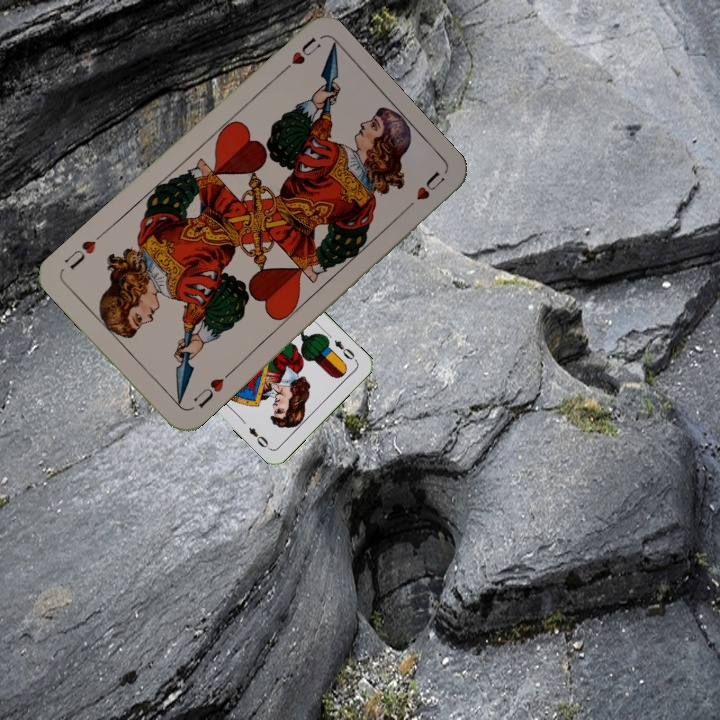EO: (330, 336, 360, 364)
HU: (273, 33, 323, 79), (189, 368, 233, 411)
